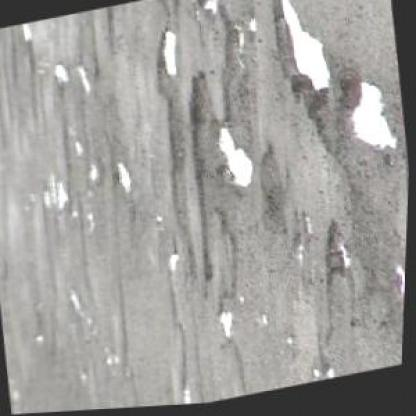pothole: (260, 0, 342, 136), (331, 70, 405, 164), (210, 122, 260, 197), (146, 28, 187, 100), (158, 96, 193, 178), (318, 216, 355, 287), (184, 70, 224, 134)
